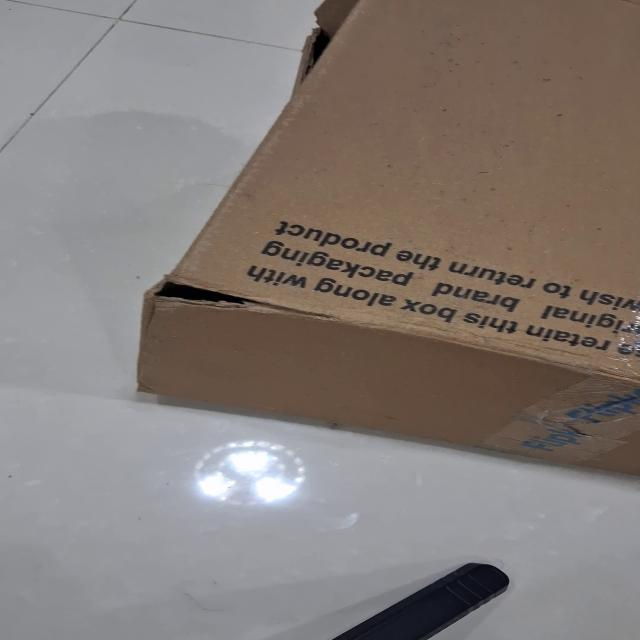paper: (134, 0, 639, 478)
